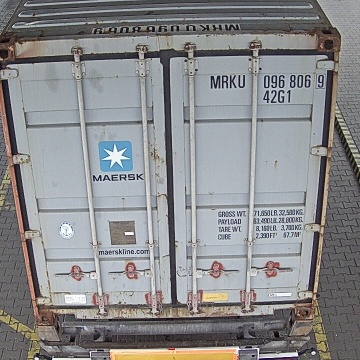serial_id: (211, 74, 325, 88)
